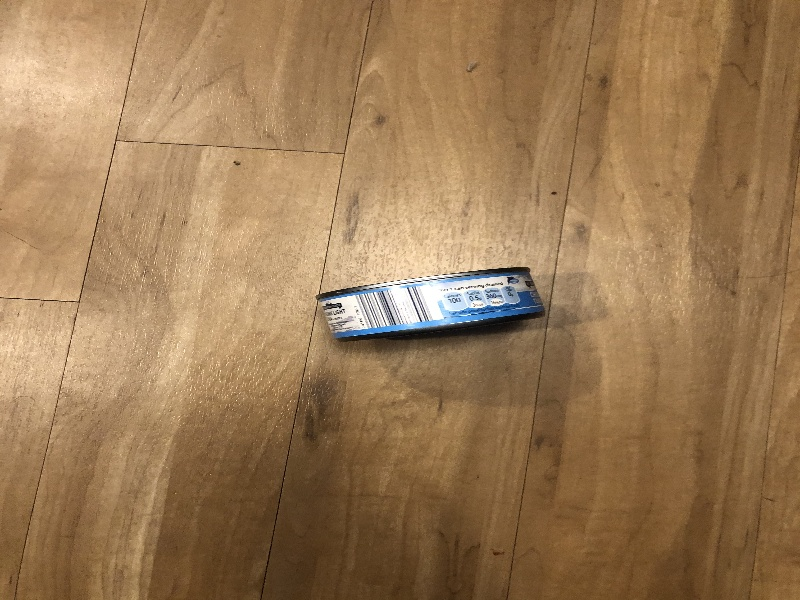metal: (311, 264, 552, 349)
